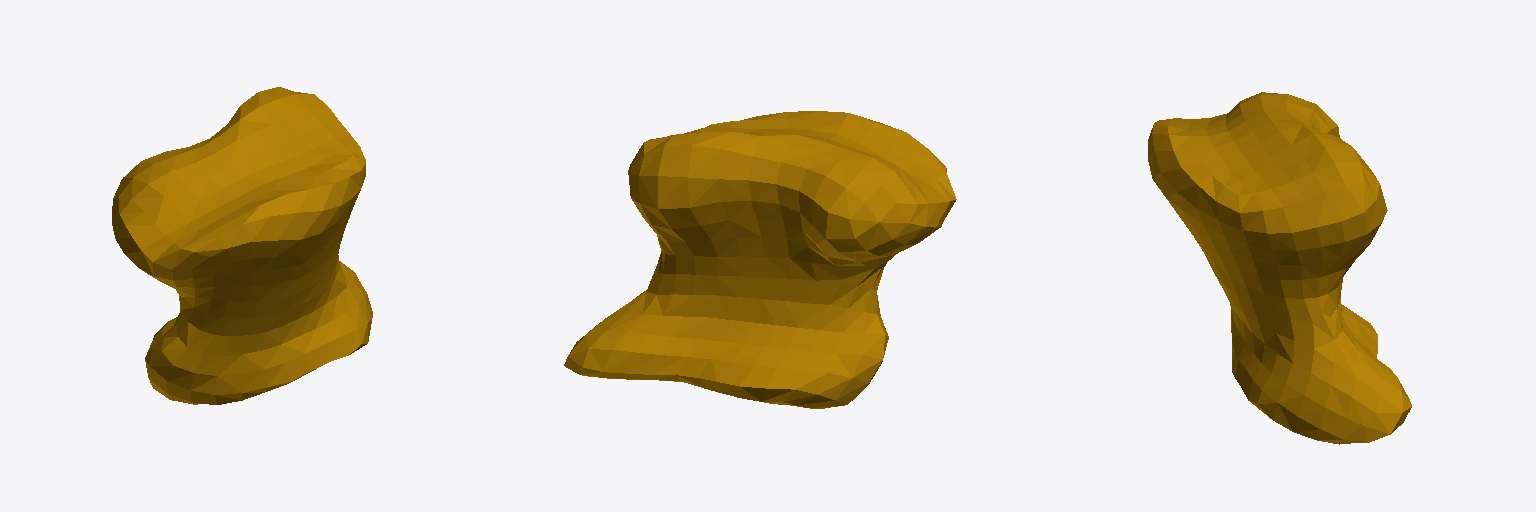
File: MiddlePhalanx_3.obj
3 views of the same model, side by side, from view 1: azimuth 30°, elevation 25°; view 2: azimuth 150°, elevation 25°; view 3: azimuth 270°, elevation 25° (orthographic).
Visible parts, largest first — view 1: Object_0MiddlePhalanx_3; view 2: Object_0MiddlePhalanx_3; view 3: Object_0MiddlePhalanx_3.
Boxes of the visible parts, <box> form: Object_0MiddlePhalanx_3: <box>112,87,372,404</box>; Object_0MiddlePhalanx_3: <box>564,111,956,408</box>; Object_0MiddlePhalanx_3: <box>1148,92,1411,444</box>.
Size of the model in its own units: 11.62 by 9.77 by 8.9.